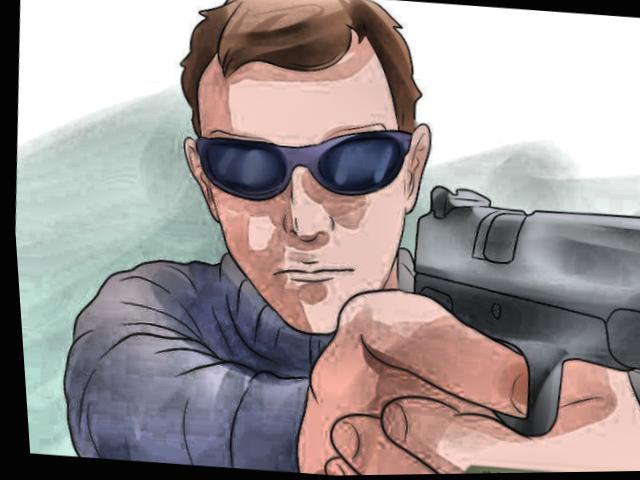pistol: (359, 168, 640, 448)
